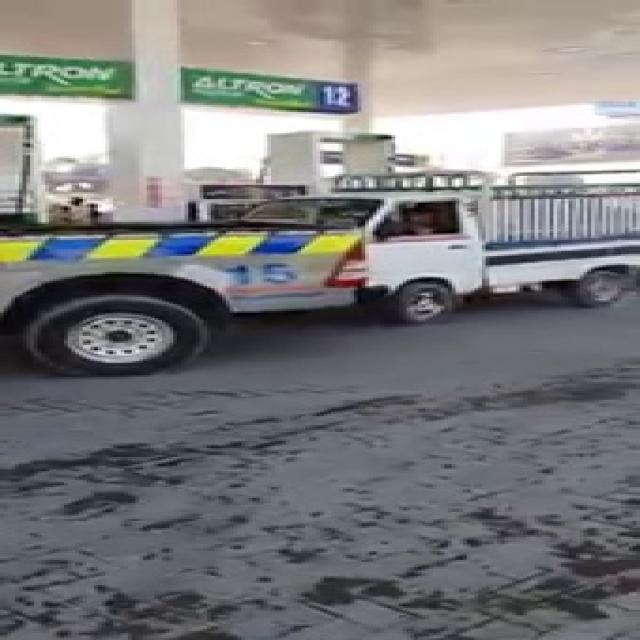police: (0, 208, 516, 357)
